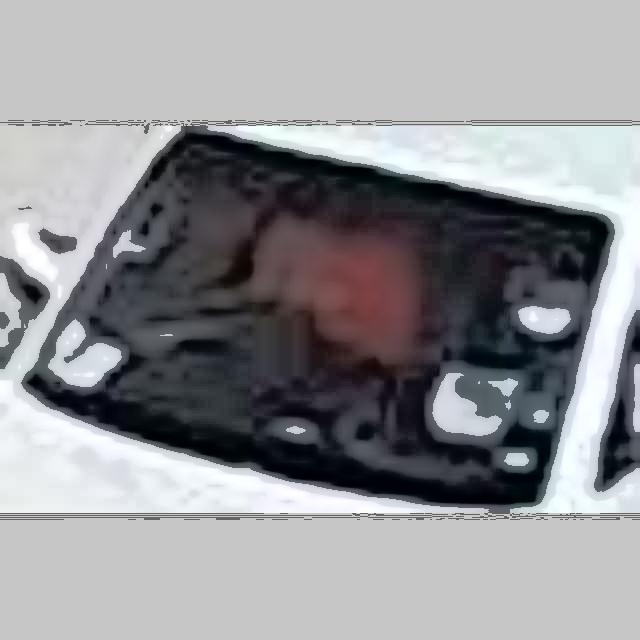tidak-pakai: (229, 213, 450, 410)
